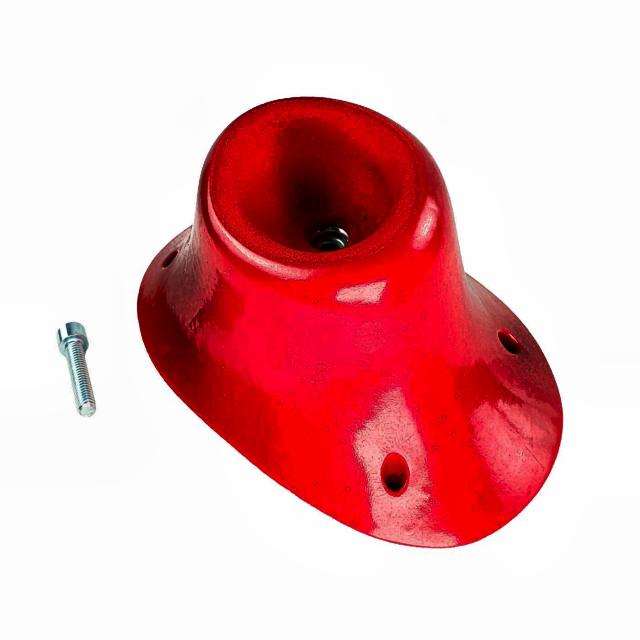Hold: (140, 95, 568, 546)
